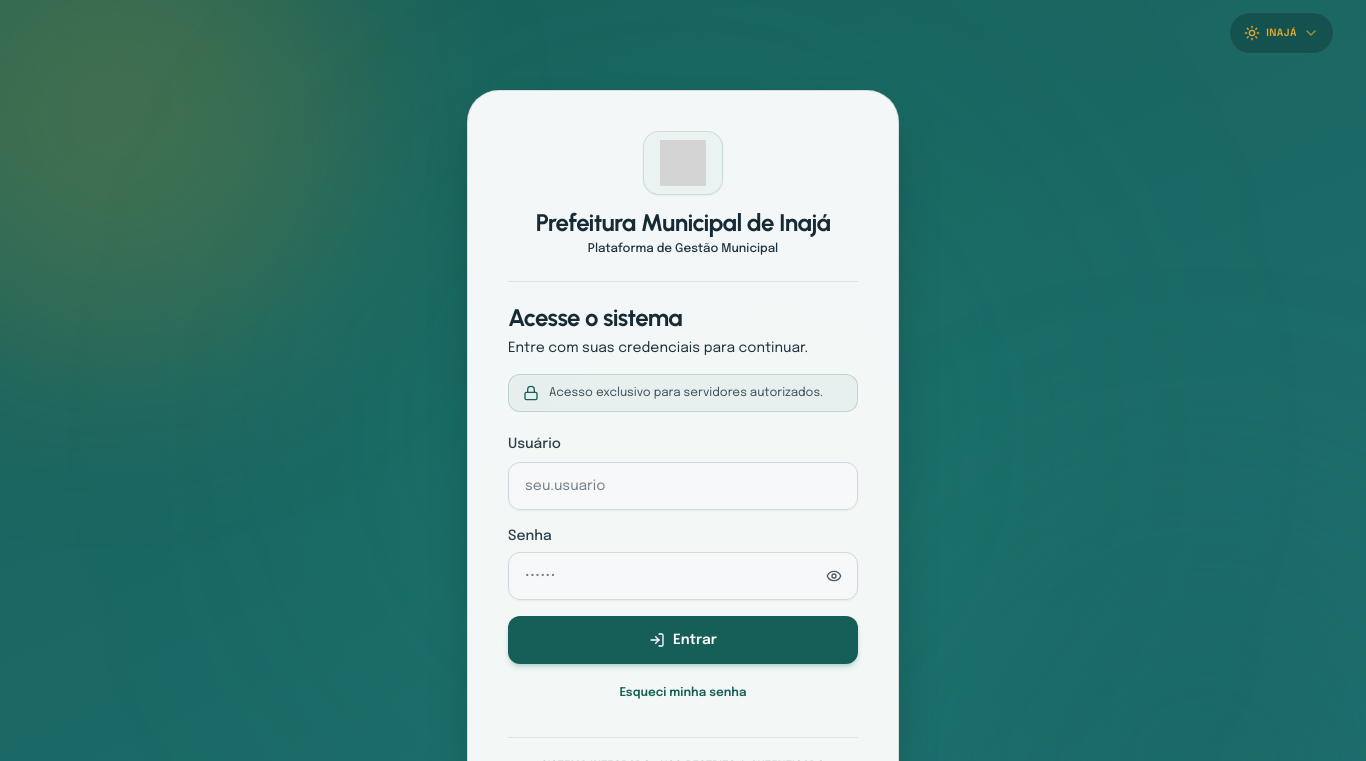
Scenario: Página de Login › permite navegar para recuperação de senha
Click the button "Esqueci minha senha" at (683, 693), box [612,681,754,705]
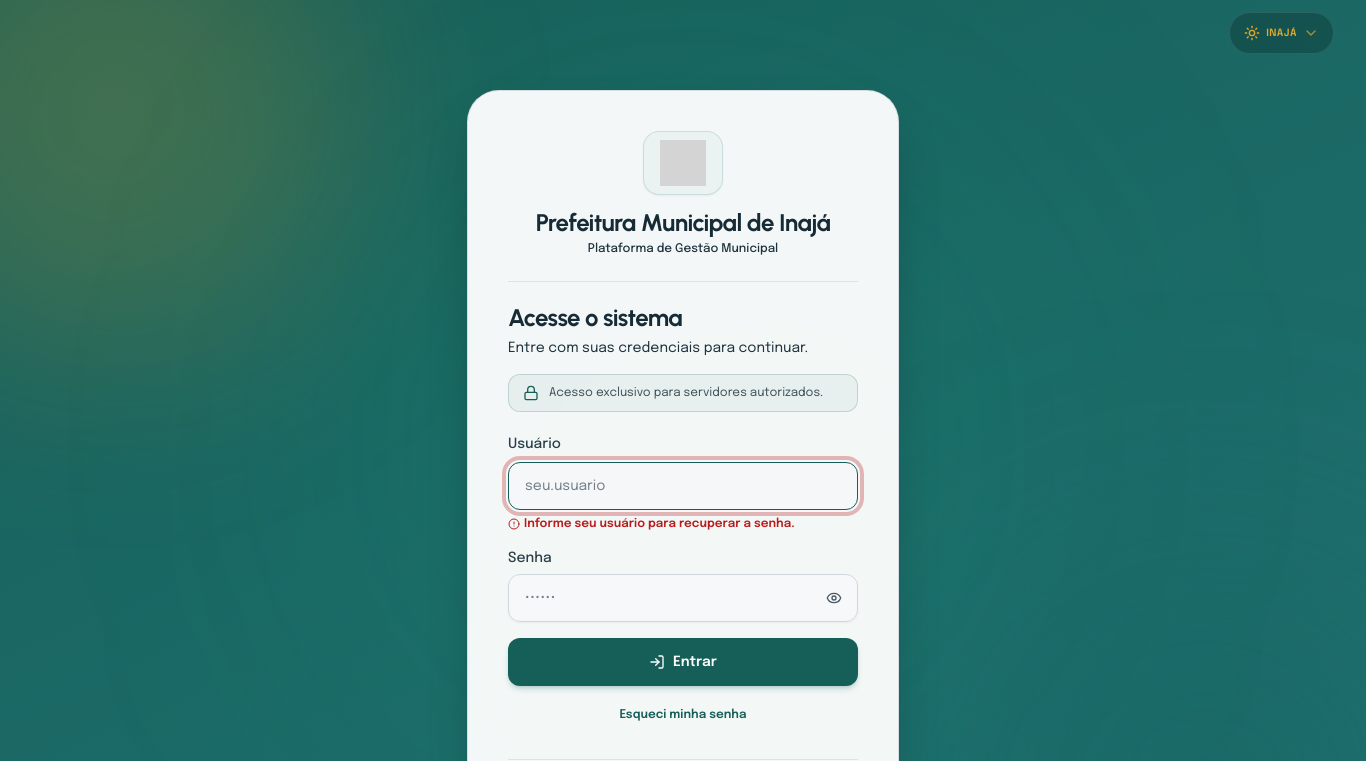
Expected: the text "Informe seu usuário para recuperar a senha." is shown, [508,518,794,530]
